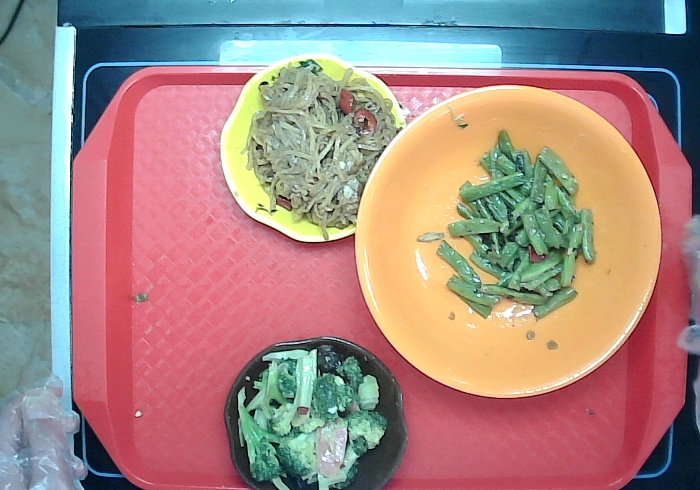YKMZ-Huang_Se_Ao_Bian_Wan: (219, 54, 406, 243)
YKMZ-Ju_Se_Tang_Wan: (354, 85, 663, 400)
YKMZ-Ka_Fei_Ao_Bian_Wan: (225, 336, 410, 490)
